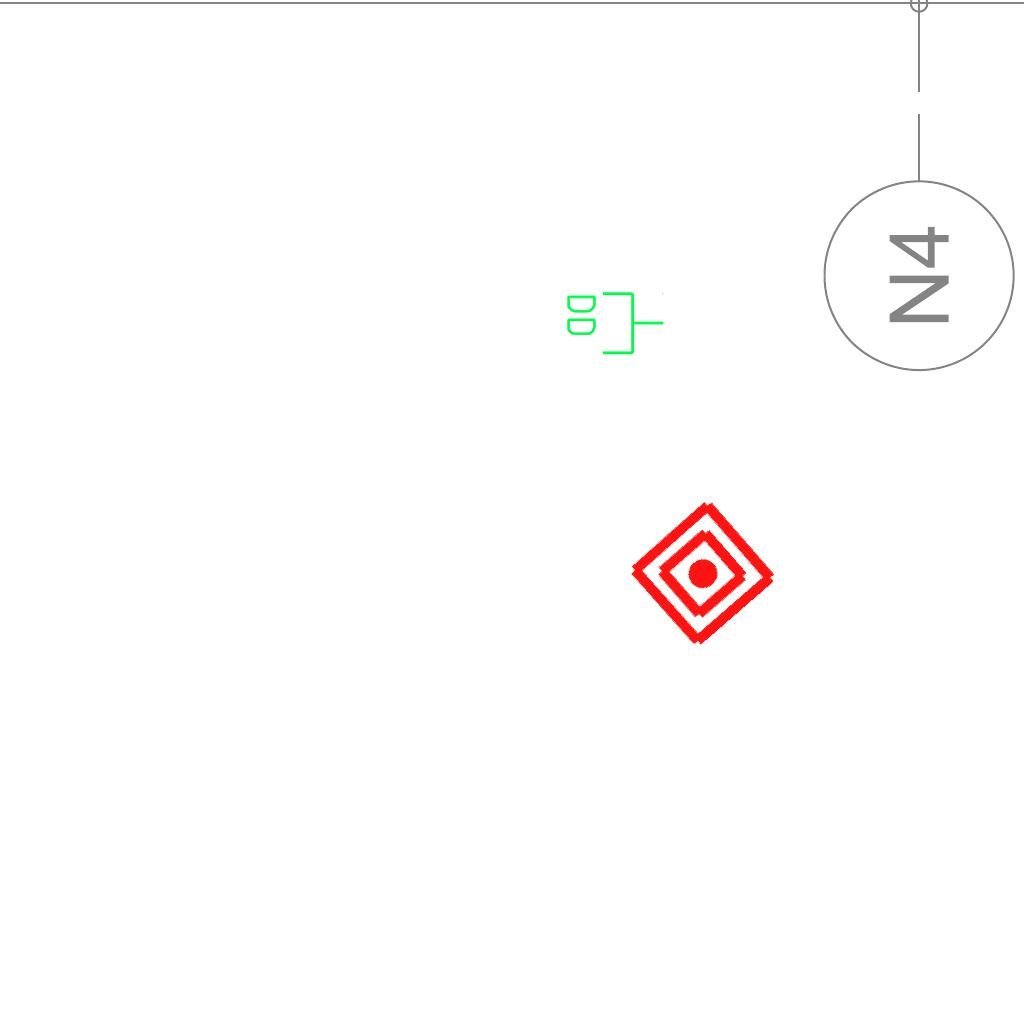Datenanschluss_zweifach: (563, 288, 666, 357)
NAM-Nichtautomatischer_Melder: (622, 493, 783, 654)
